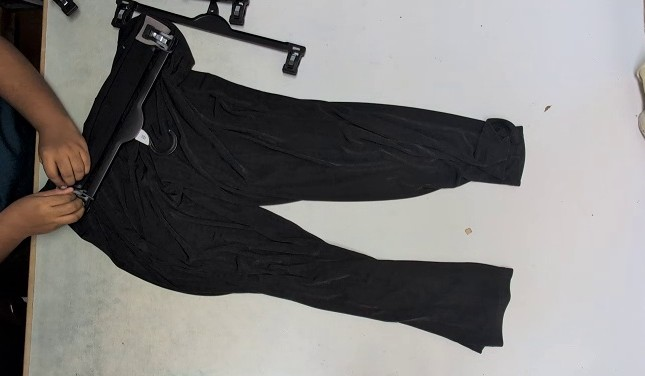TROUSER: (34, 19, 602, 364)
